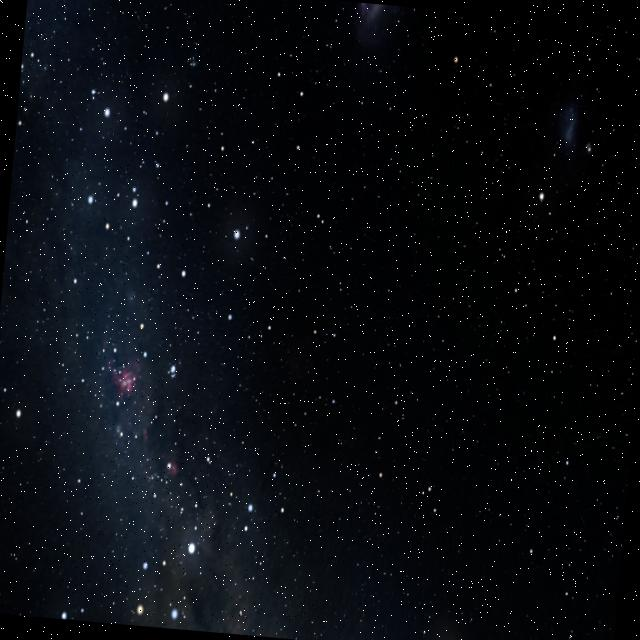Chamaeleon: (296, 208, 358, 414)
